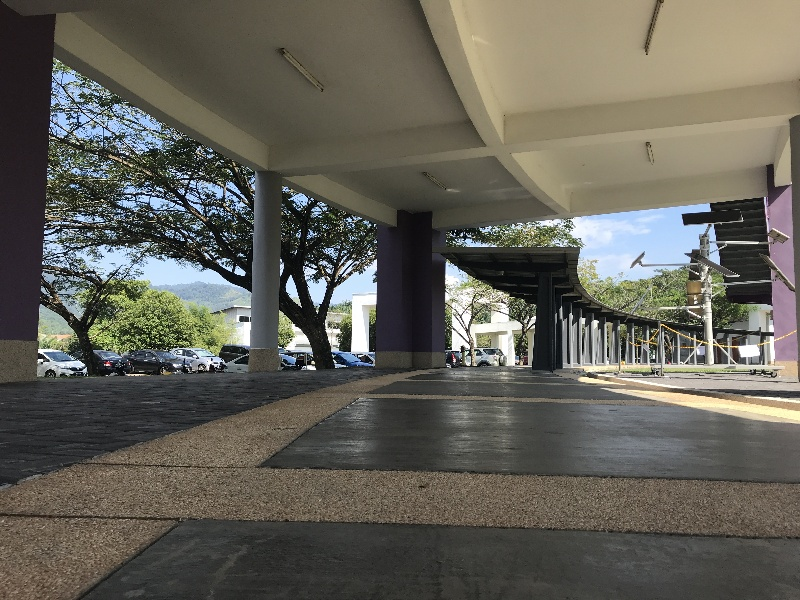Block D Pillar 5: (10, 4, 800, 565)
pillar: (1, 7, 82, 393), (362, 203, 458, 381), (746, 156, 800, 375), (240, 154, 288, 380), (530, 270, 563, 377)
